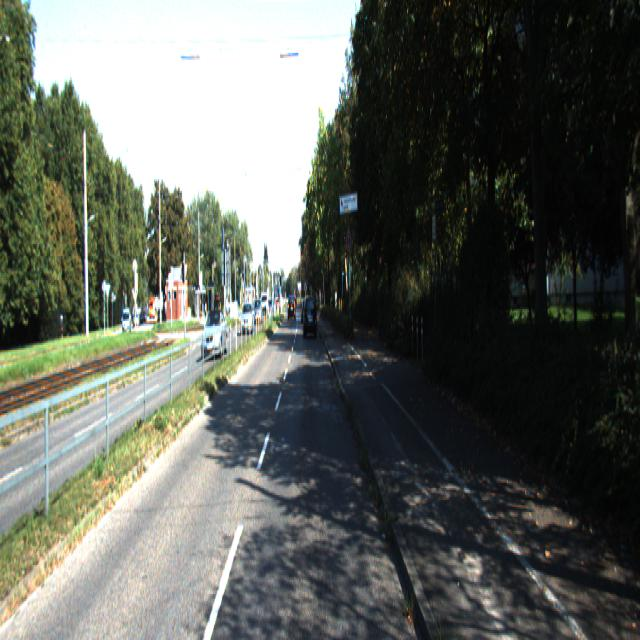Car: (201, 310, 229, 364), (304, 295, 318, 340)
